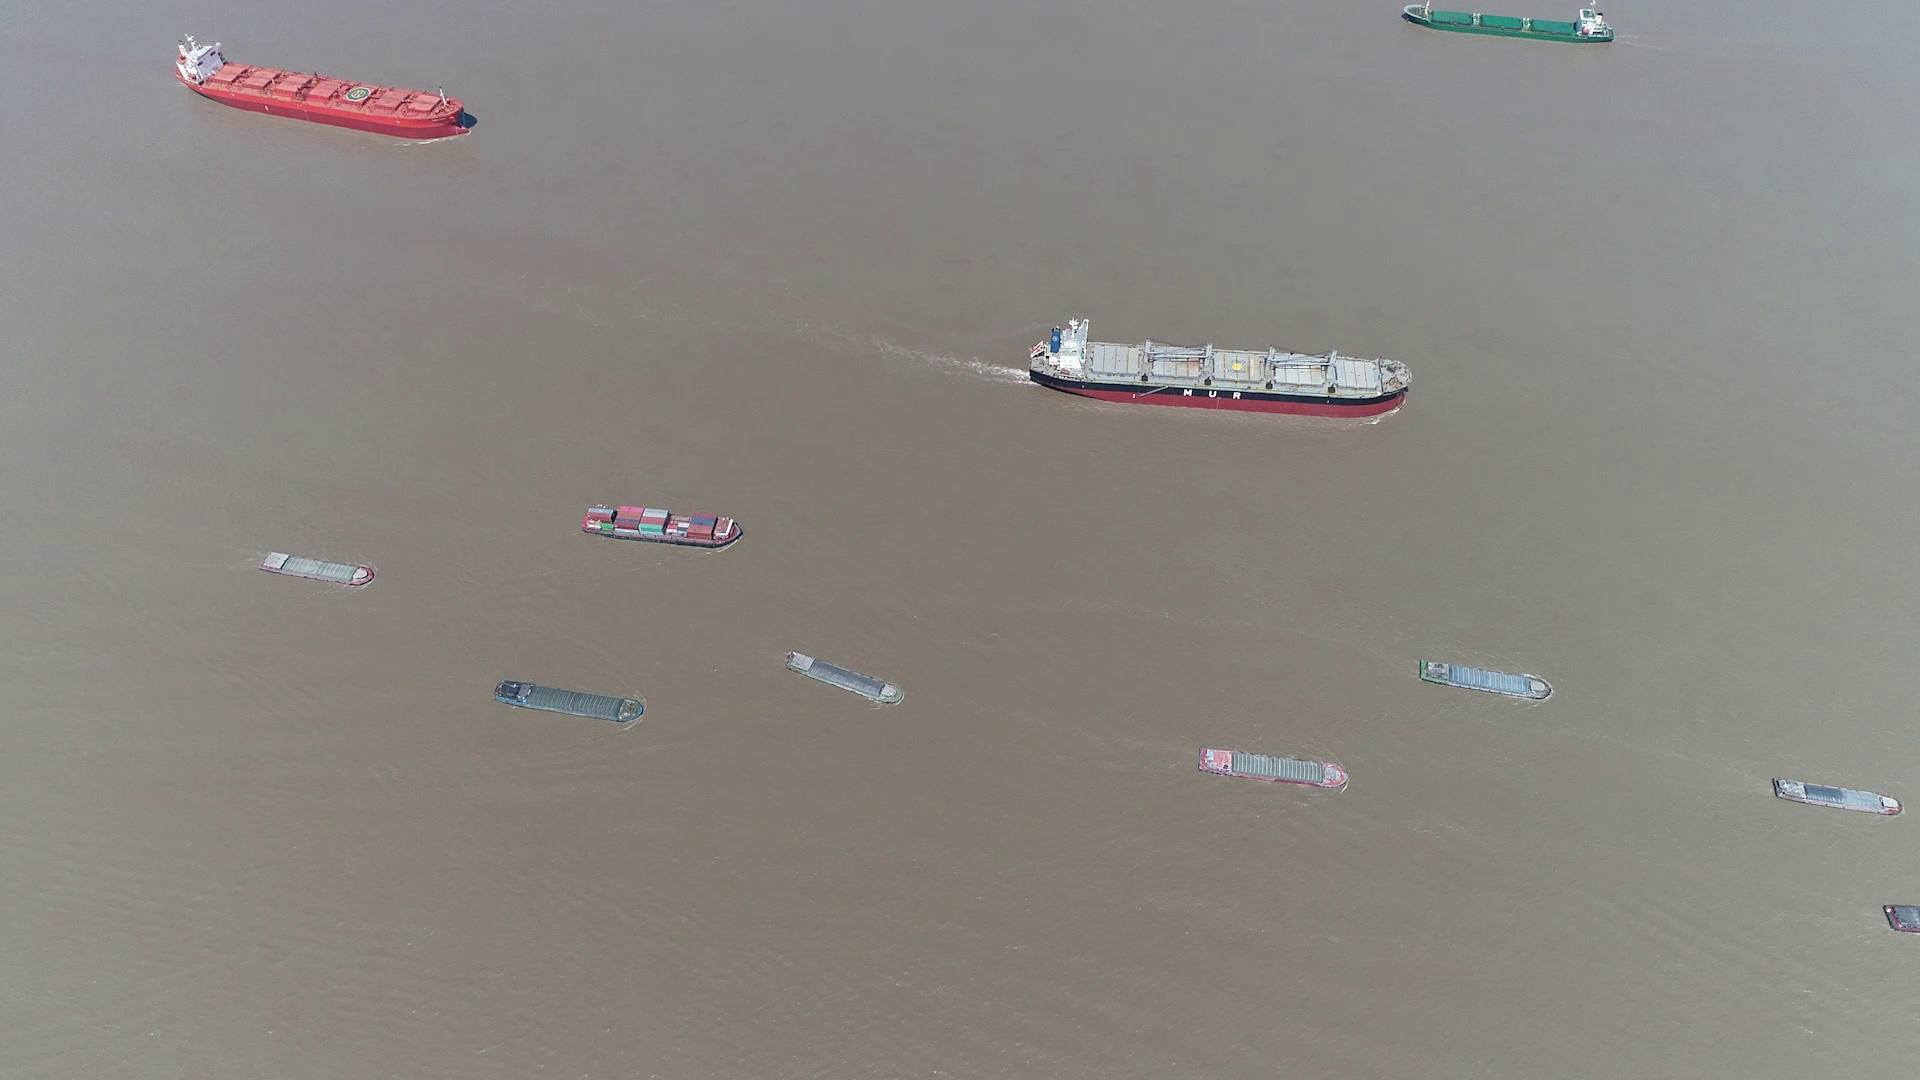ship: (1031, 320, 1411, 418), (174, 32, 469, 138), (1404, 7, 1617, 44), (582, 502, 742, 547), (495, 680, 647, 723), (786, 651, 903, 705), (1199, 748, 1349, 787), (1419, 659, 1553, 702), (1772, 778, 1903, 816), (258, 551, 377, 587), (1884, 906, 1920, 938)
